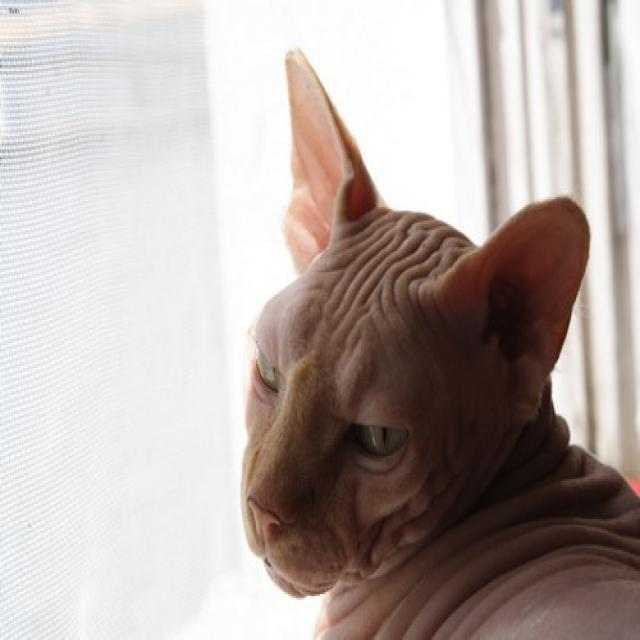Sphynx: (238, 44, 595, 600)
